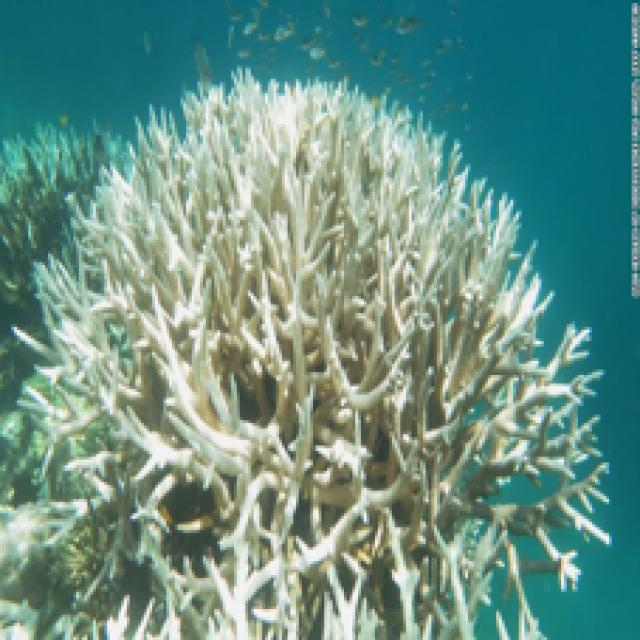Bleached: (38, 71, 607, 638)
